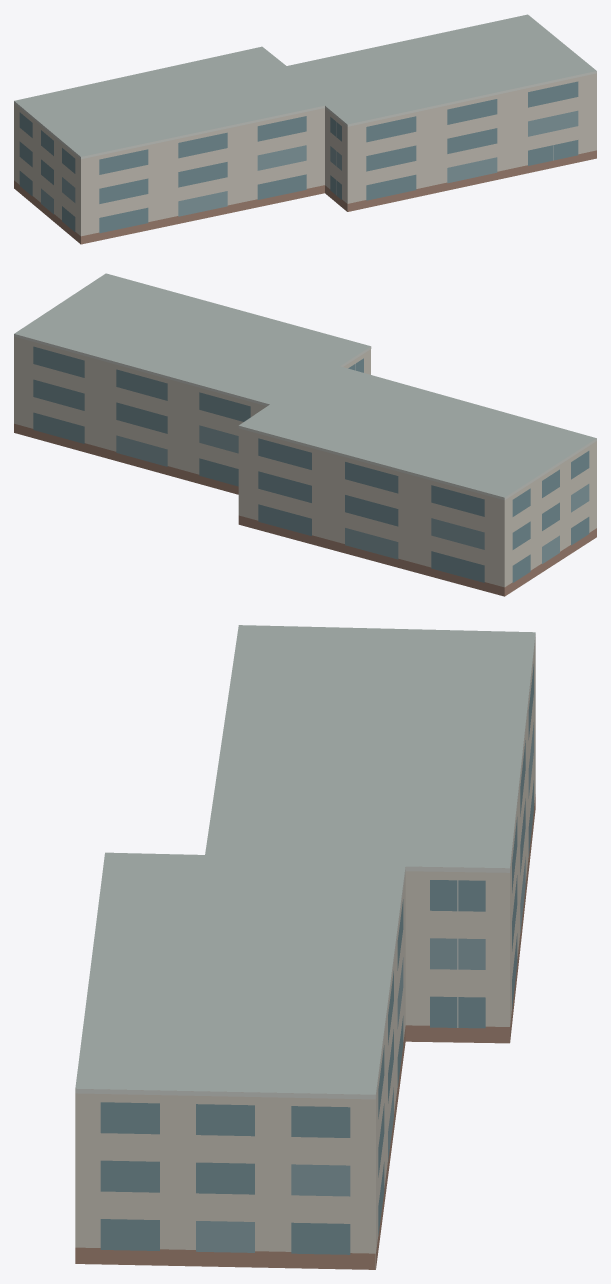
The model's file is survey-upis-32886335.glb.
3 renders of one model, top to bottom at view 1: azimuth 30°, elevation 25°; view 2: azimuth 150°, elevation 25°; view 3: azimuth 270°, elevation 25°, orthographic. The views are drawn at different scales.
Parts seen in each view (by area): view 1: survey-upis-32886335.tmp; view 2: survey-upis-32886335.tmp; view 3: survey-upis-32886335.tmp.
Part boxes in pixels (x1=…): survey-upis-32886335.tmp: x1=14, y1=14, x2=596, y2=244; survey-upis-32886335.tmp: x1=14, y1=273, x2=596, y2=596; survey-upis-32886335.tmp: x1=75, y1=625, x2=535, y2=1269.
Bounding box in the file's own units: 52.65 × 9.15 × 21.81.
